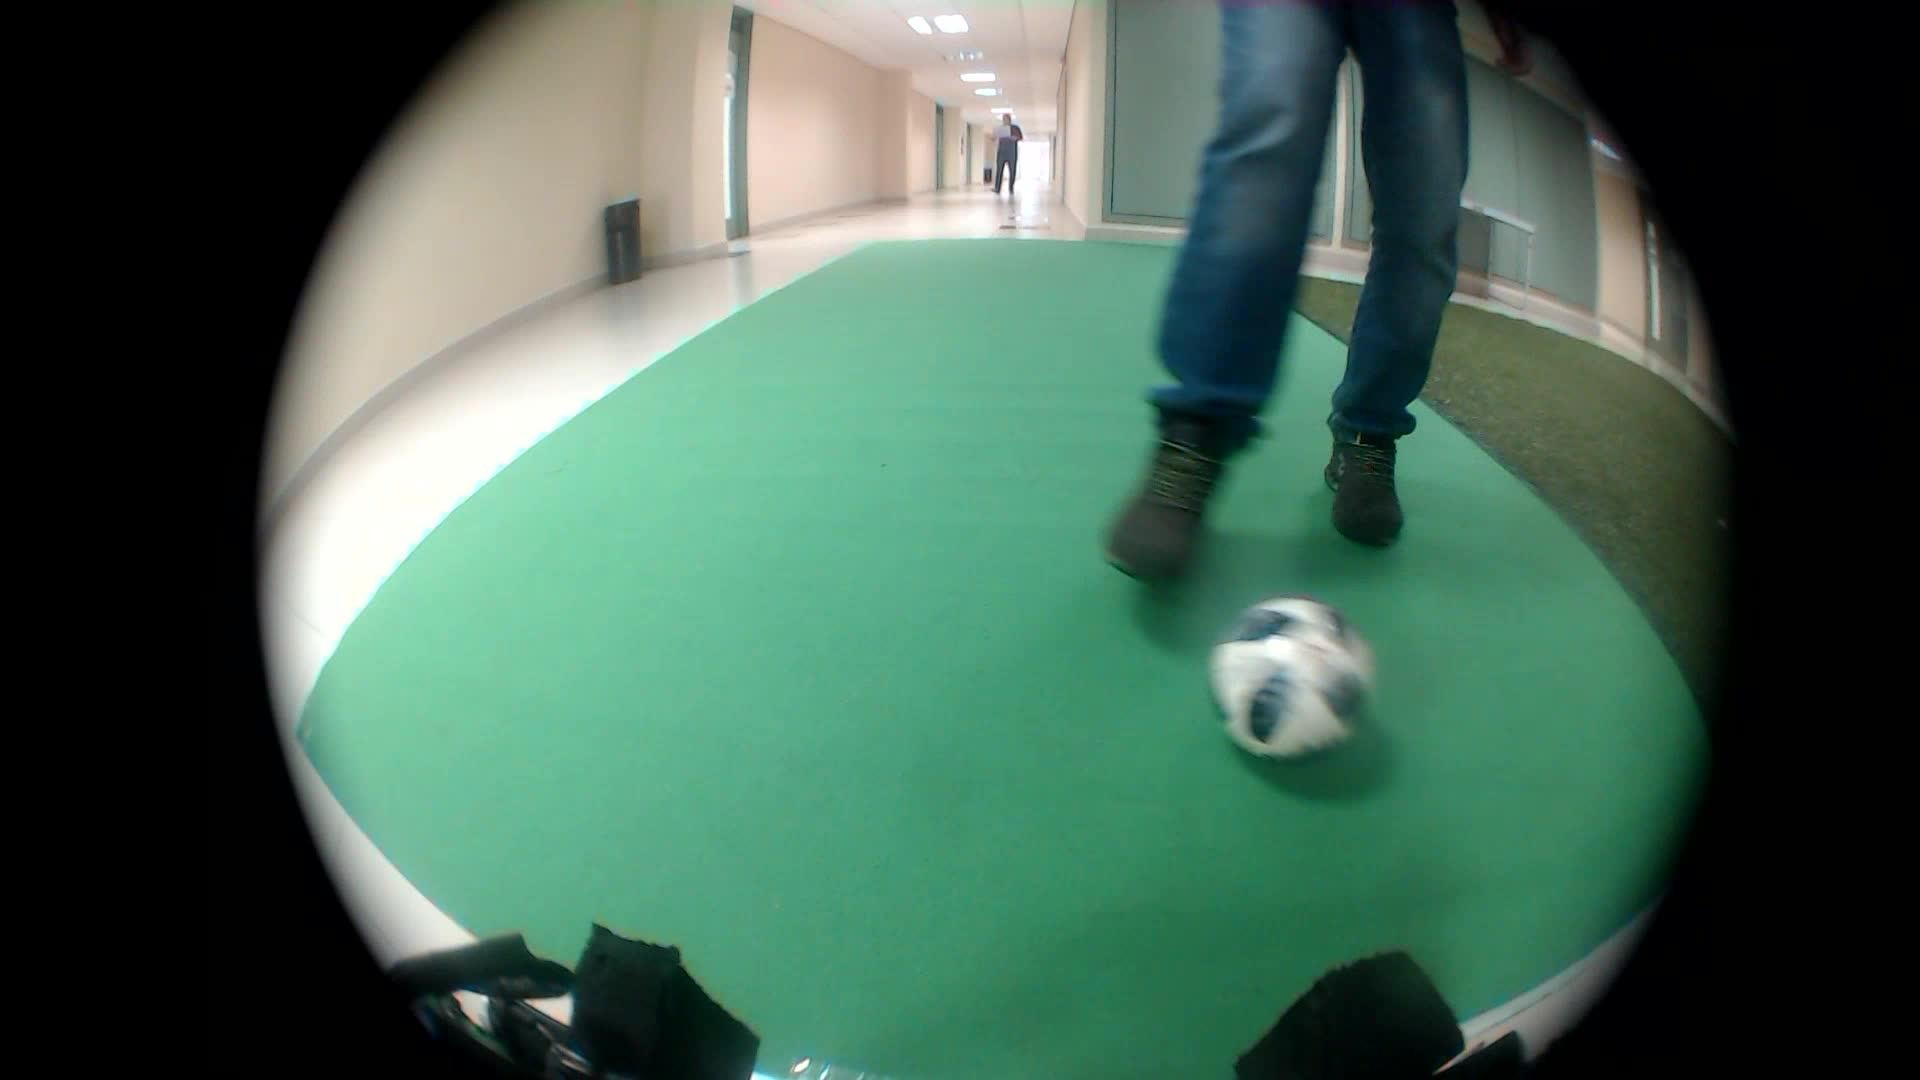ball: (1203, 591, 1389, 782)
